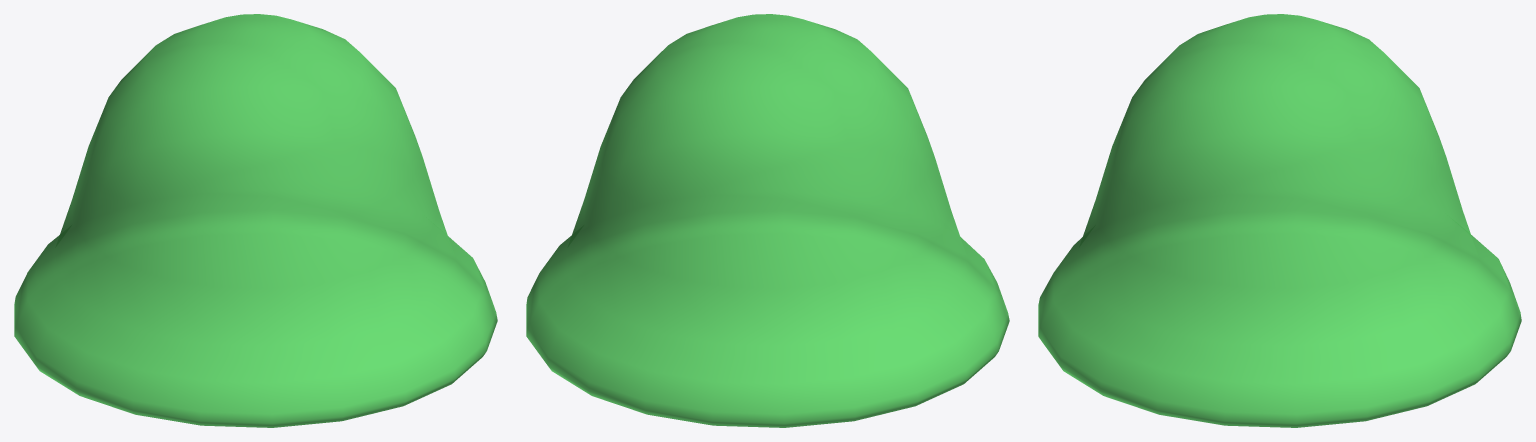
The model's file is slime.fbx.
3 views of the same model, side by side, from view 1: azimuth 30°, elevation 25°; view 2: azimuth 150°, elevation 25°; view 3: azimuth 270°, elevation 25° (orthographic).
Visible parts, largest first — view 1: Sphere; view 2: Sphere; view 3: Sphere.
Part boxes in pixels (box(x1,y1,x2,y2)): Sphere: box(14, 14, 497, 427); Sphere: box(526, 14, 1009, 427); Sphere: box(1038, 14, 1521, 427).
Bounding box in the file's own units: 170 × 120 × 170.
